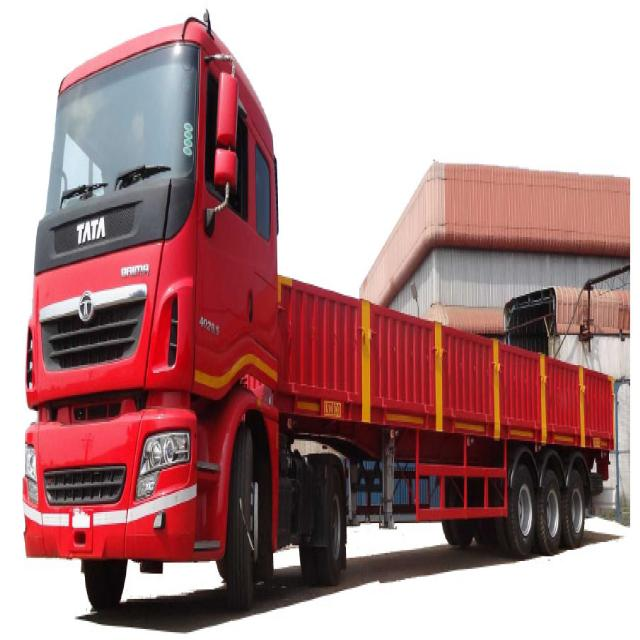truck: (22, 20, 615, 609)
